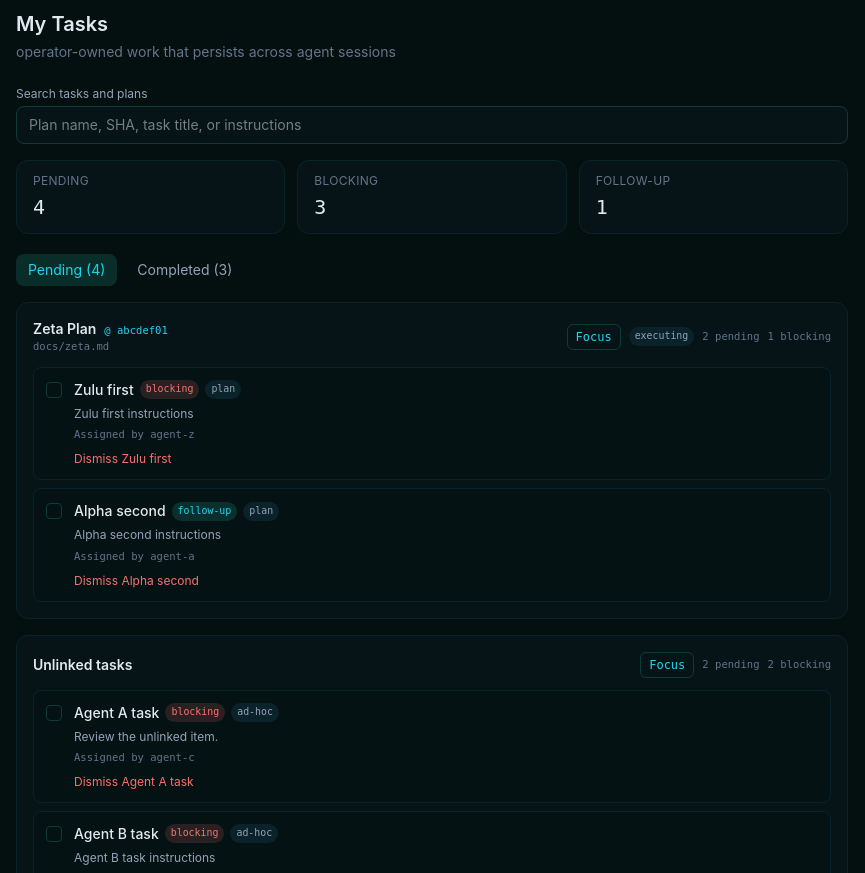
it: MyTasks › shows completed and dismissed rows in their plan/unlinked cards with checked controls
expect the tab "Pending (4)" is shown: met, box [16,254,117,286]
What coordinates should you click on to do the following:
click the tab "Completed (3)"
I would click on:
 (185, 270)
Its box is [125,254,244,286].
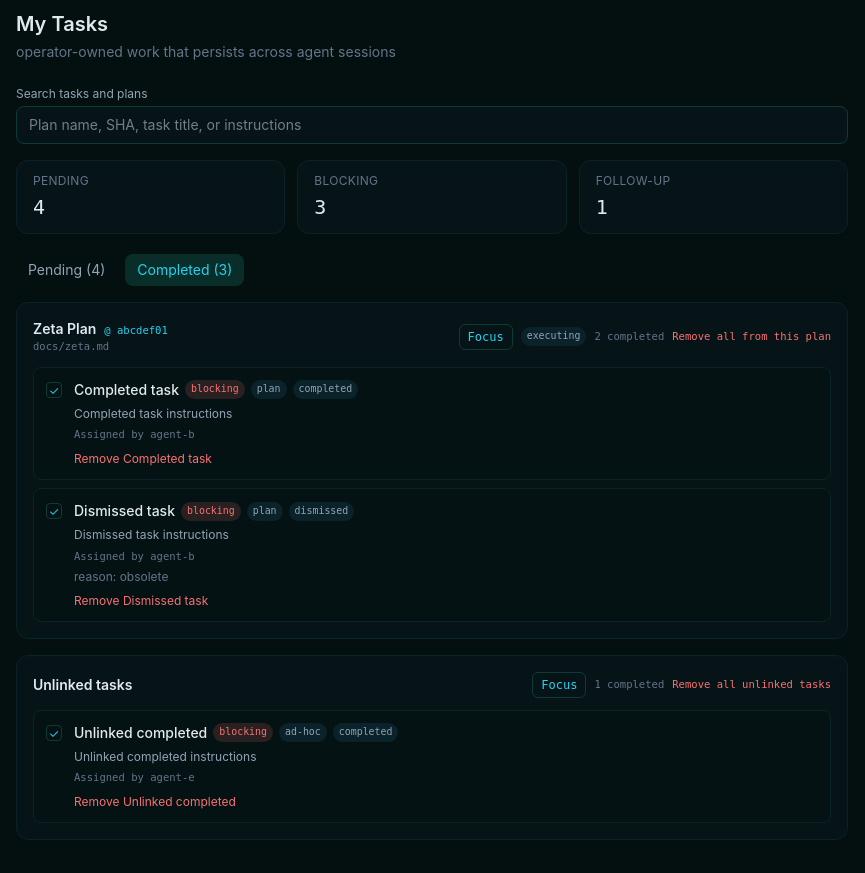
expect the text "reason: obsolete" is shown: met, box [74,568,168,584]
expect the text "completed" below "docs/zeta.md" is shown: met, box [298,383,352,394]
expect the text "dismissed" is shown: met, box [289,502,354,521]
